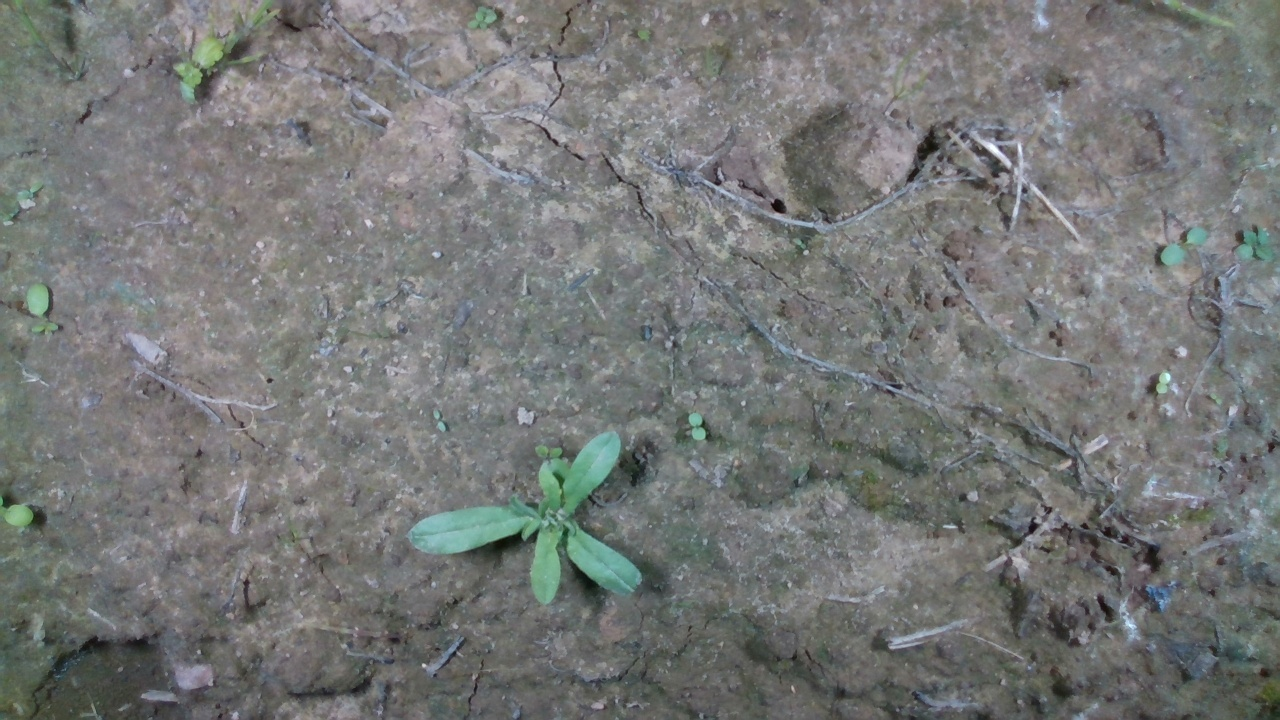weed: (1157, 223, 1210, 268), (1231, 226, 1274, 261), (686, 409, 709, 442), (1154, 370, 1173, 394)
